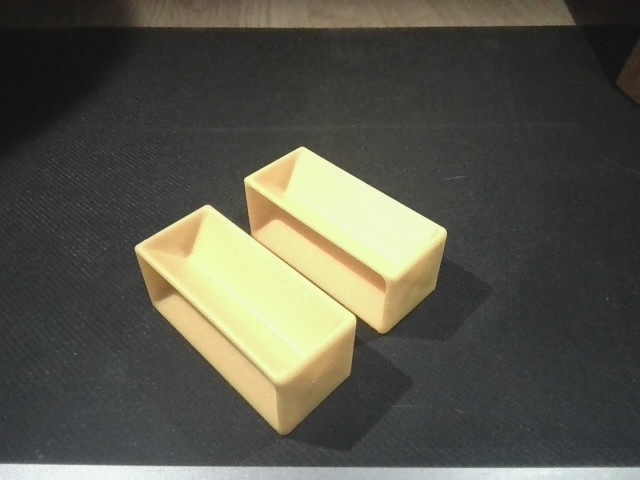YellowSample: (129, 200, 359, 439), (242, 144, 449, 336)
